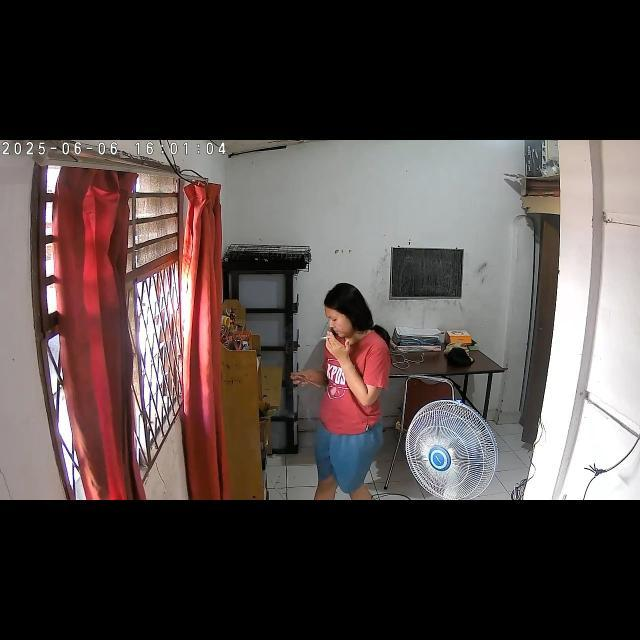rokok: (318, 332, 334, 340)
